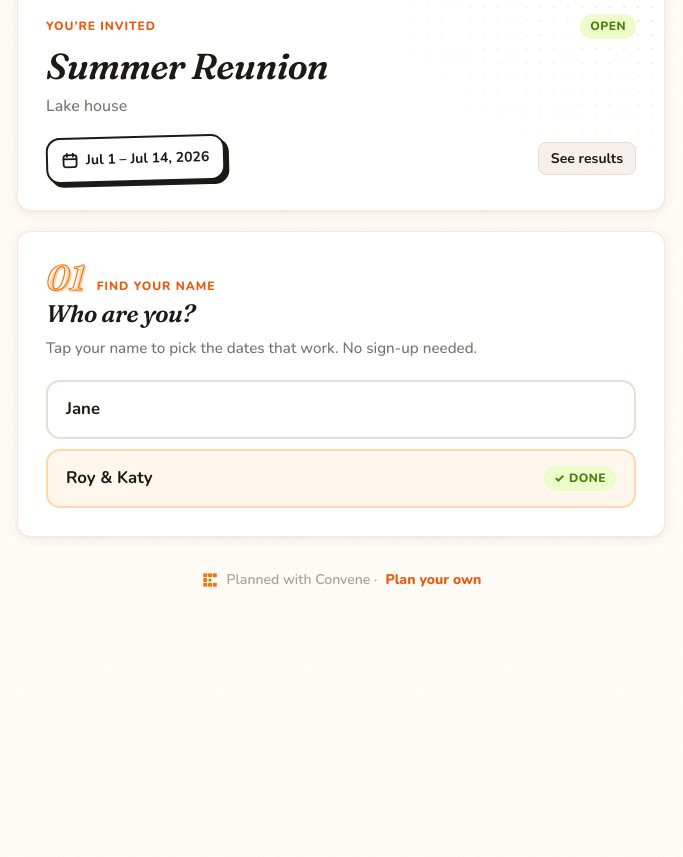
Test: ParticipantView › walks list → dates → submit → thank-you moment, and lets them change dates
Click the button "Jane" at (83, 409), box [46, 380, 636, 439]
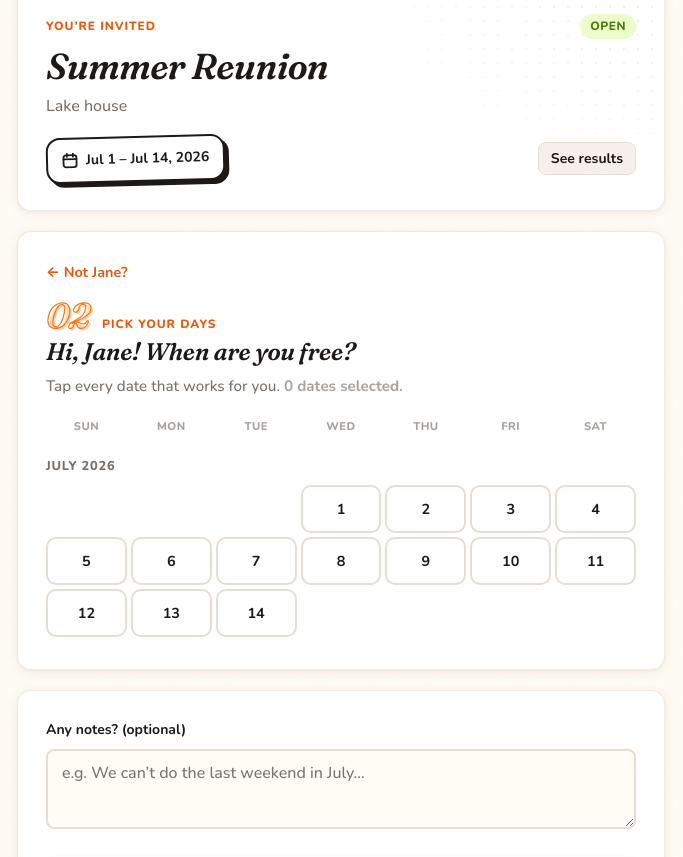
Result: the text with class "chapter-num" reads "02" at [46, 294, 90, 337]
Result: the heading "Hi, Jane! When are you free?" is shown at [46, 337, 355, 366]
Click the button "4" at (596, 509), box [555, 485, 636, 533]
(page scrolled)
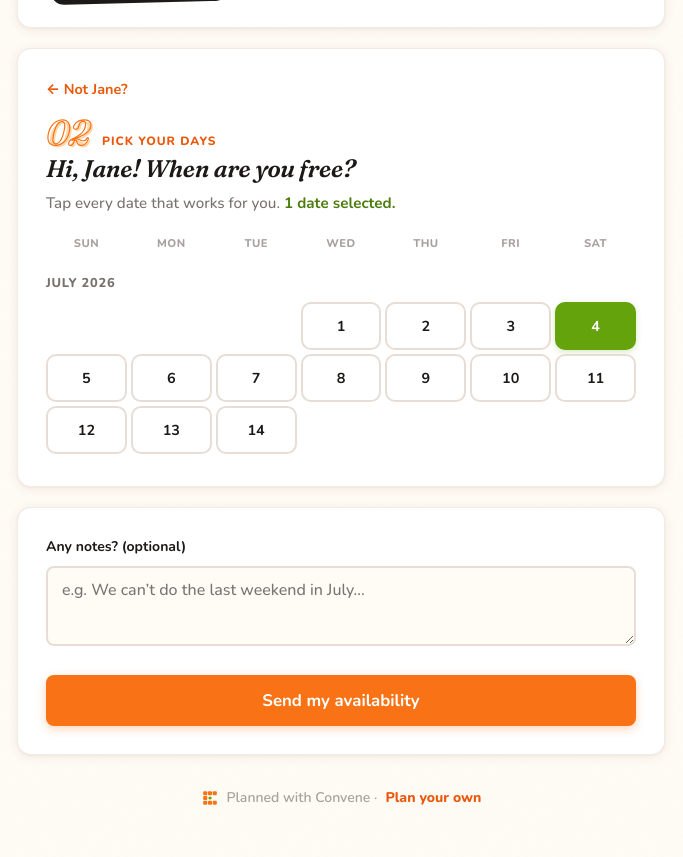
Result: the button "Send my availability" is enabled
Click the button "Send my availability" at (341, 700), box [46, 675, 636, 726]
(page scrolled)
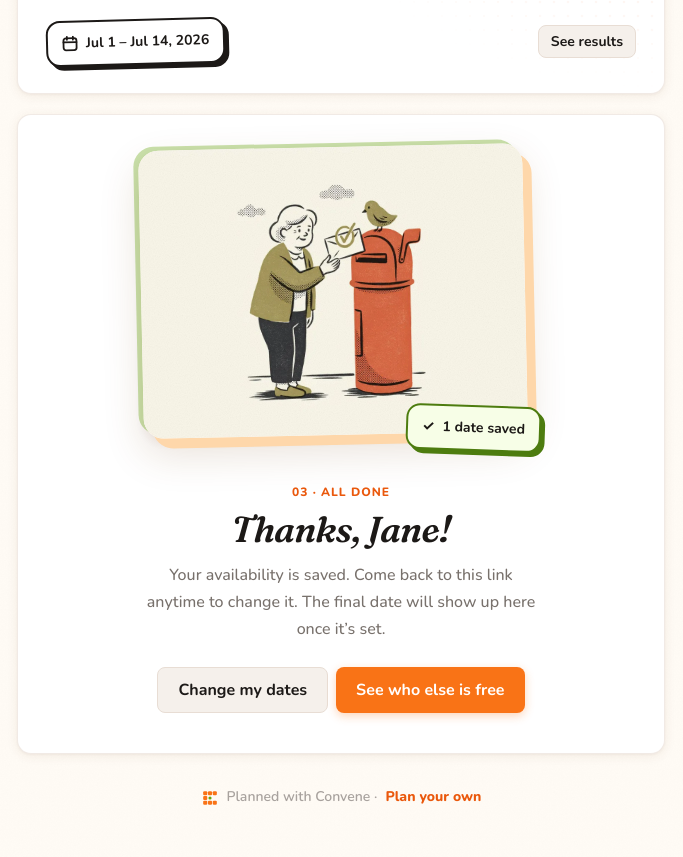
Result: the heading "Thanks, Jane!" is shown at [231, 507, 451, 551]
Result: the picture with alt text "A smiling grandmother drops an envelope with a green checkmark into a mailbox." is shown at [138, 143, 528, 439]
Result: the text "✓ 1 date saved" is shown at [405, 402, 542, 453]
Click the button "Change my dates" at (243, 690), box [158, 667, 328, 713]
(page scrolled)
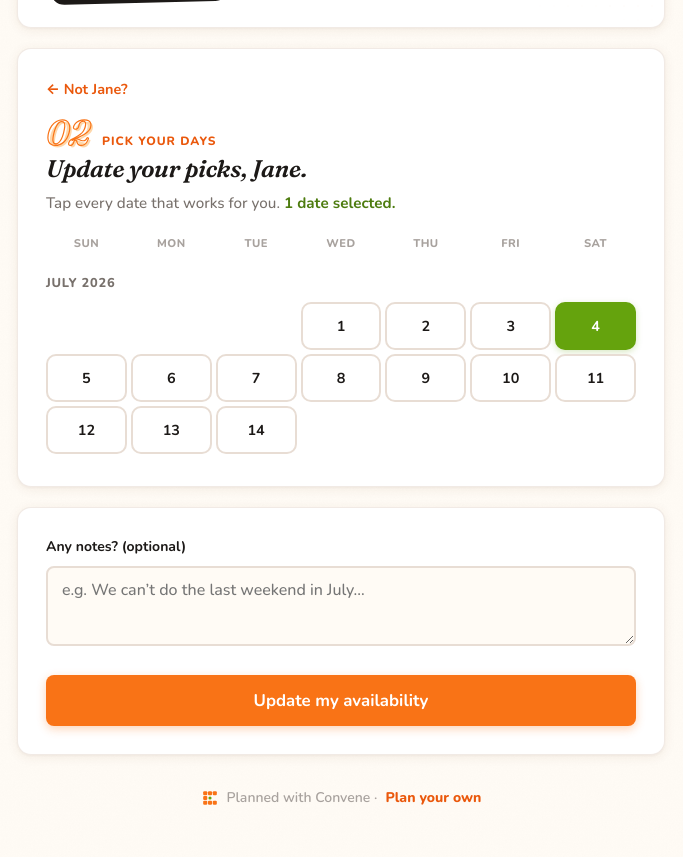
Result: the heading "Update your picks, Jane." is shown at [46, 154, 307, 183]
